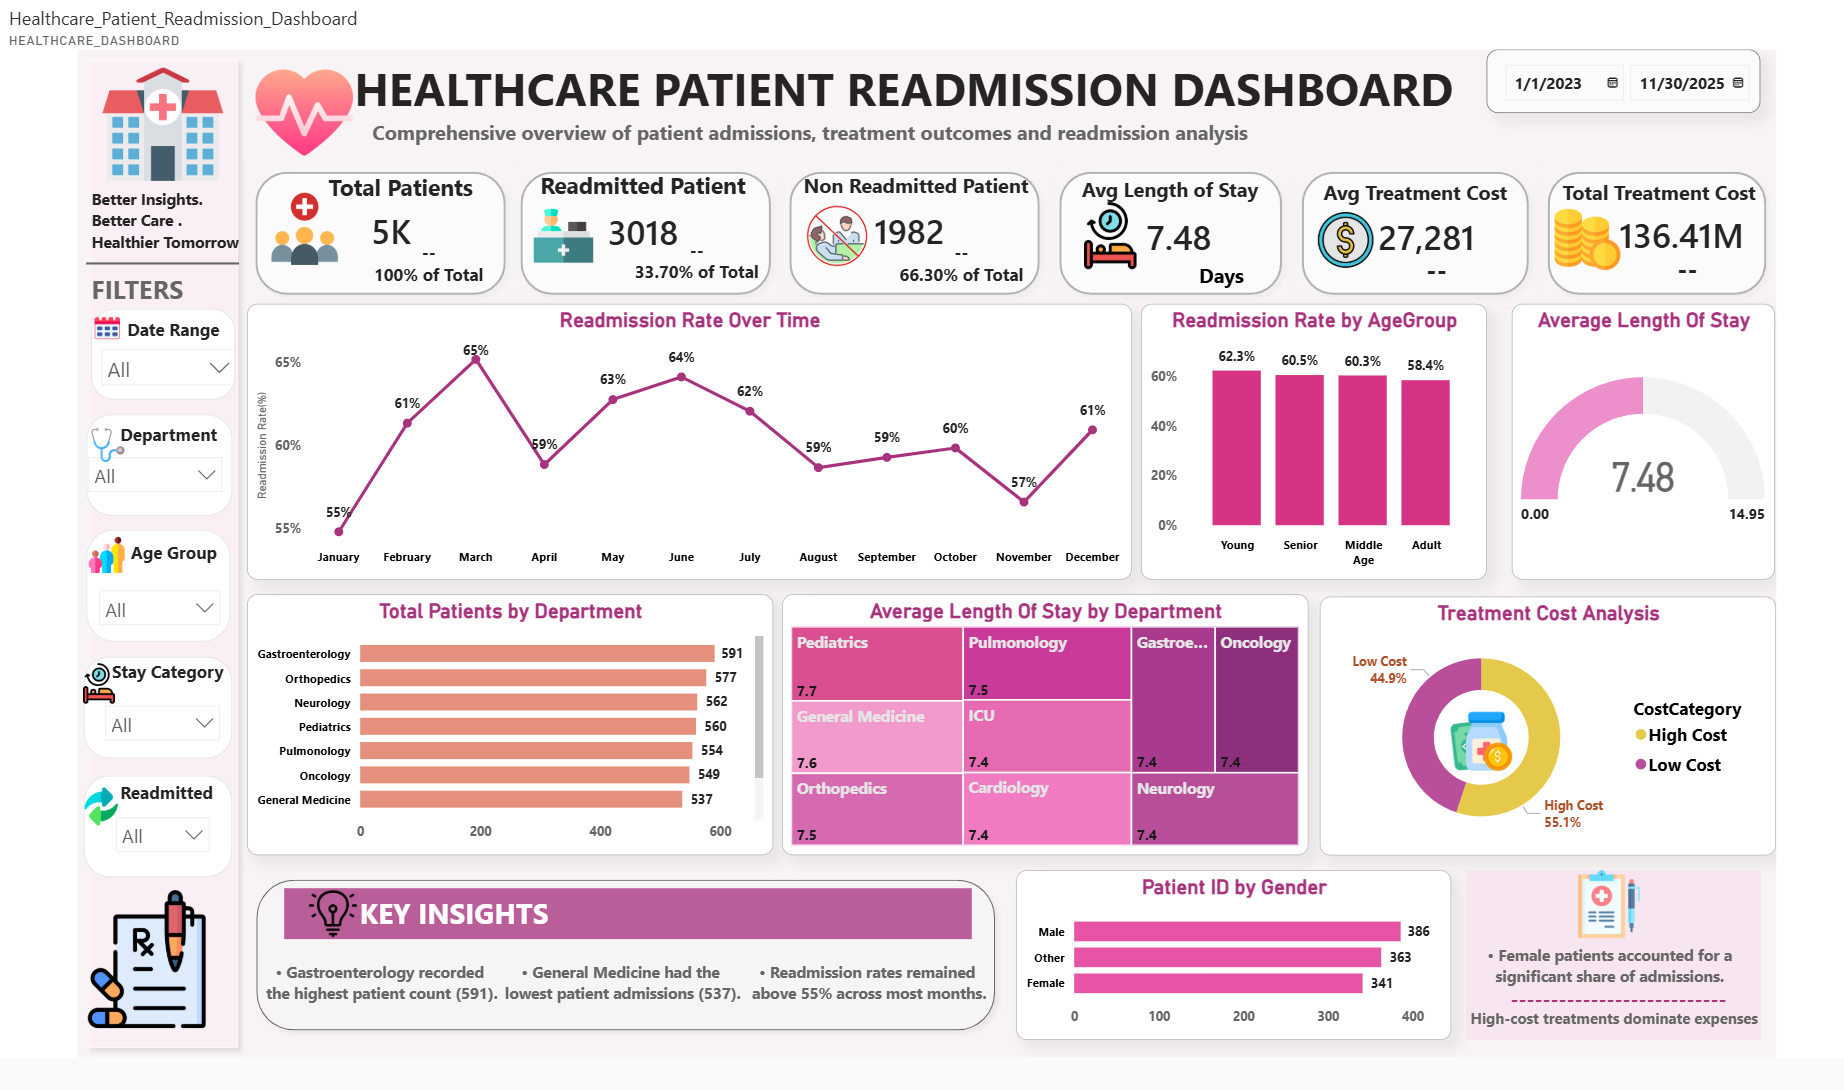

What the dashboard file says about the page in this screenshot:
{"tool":"powerbi","page":{"name":"Healthcare_Dashboard","canvas":[1600,950],"ordinal":0},"visuals":[{"type":"shape","box":[158,106,254,134],"z":0},{"type":"shape","box":[0,0,160,950],"z":1000},{"type":"image","box":[134,14,160,92],"z":2000},{"type":"textbox","box":[228,2,1100,82],"z":3000},{"type":"textbox","box":[272,60,898,46],"z":4000},{"type":"slicer","fields":{"Values":["cleaned_hospital_data.AdmissionDate"]},"box":[1328,0,258,60],"z":5000},{"type":"cardVisual","fields":{"Data":["Key Measures Table.Total Patients"]},"box":[248,128,108,82],"z":6000},{"type":"textbox","box":[200,110,208,50],"z":7000},{"type":"textbox","box":[248,174,166,70],"z":8000},{"type":"image","box":[180,128,68,82],"z":9000},{"type":"shape","box":[408,106,254,134],"z":10000},{"type":"shape","box":[662,106,254,134],"z":11000},{"type":"shape","box":[916,106,228,134],"z":12000},{"type":"shape","box":[1144,106,232,134],"z":13000},{"type":"shape","box":[1376,106,224,134],"z":14000},{"type":"cardVisual","fields":{"Data":["Key Measures Table.Readmitted Patients"]},"box":[470,134,134,74],"z":15000},{"type":"textbox","box":[384,108,296,52],"z":16000},{"type":"textbox","box":[486,172,194,88],"z":17000},{"type":"image","box":[430,140,56,70],"z":18000},{"type":"textbox","box":[648,110,284,54],"z":19000},{"type":"textbox","box":[750,174,166,80],"z":20000},{"type":"cardVisual","fields":{"Data":["Key Measures Table.Non Readmitted Patients"]},"box":[722,128,166,82],"z":21000},{"type":"image","box":[662,116,108,118],"z":22000},{"type":"textbox","box":[900,114,258,48],"z":23000},{"type":"cardVisual","fields":{"Data":["Key Measures Table.Average Length Of Stay"]},"box":[978,136,128,78],"z":24000},{"type":"textbox","box":[1052,194,108,46],"z":25000},{"type":"image","box":[916,142,114,66],"z":26000},{"type":"textbox","box":[1118,116,284,60],"z":27000},{"type":"cardVisual","fields":{"Data":["Key Measures Table.Average Treatment Cost"]},"box":[1196,130,166,88],"z":28000},{"type":"image","box":[1154,152,82,56],"z":29000},{"type":"textbox","box":[1198,186,166,54],"z":30000},{"type":"cardVisual","fields":{"Data":["Key Measures Table.Total Treatment Cost"]},"box":[1424,140,176,64],"z":31000},{"type":"textbox","box":[1434,184,166,50],"z":32000},{"type":"textbox","box":[1376,116,210,48],"z":33000},{"type":"image","box":[1386,148,72,62],"z":34000},{"type":"lineChart","title":"Readmission Rate Over Time","fields":{"Category":["cleaned_hospital_data.Month.Variation.Date Hierarchy.Month"],"Y":["Key Measures Table.Readmission Rate"]},"box":[160,240,834,260],"z":35000},{"type":"clusteredColumnChart","fields":{"Category":["cleaned_hospital_data.AgeGroup"],"Y":["Key Measures Table.Readmission Rate"]},"box":[1002,240,326,260],"z":36000},{"type":"gauge","fields":{"Y":["Key Measures Table.Average Length Of Stay"]},"box":[1352,240,248,260],"z":37000},{"type":"clusteredBarChart","fields":{"Category":["cleaned_hospital_data.Department"],"Y":["Key Measures Table.Total Patients"]},"box":[160,514,496,246],"z":38000},{"type":"treemap","fields":{"Group":["cleaned_hospital_data.Department"],"Values":["Key Measures Table.Average Length Of Stay"]},"box":[664,514,496,246],"z":39000},{"type":"donutChart","title":"Treatment Cost Analysis","fields":{"Y":["CountNonNull(cleaned_hospital_data.PatientID)"],"Category":["cleaned_hospital_data.CostCategory"]},"box":[1170,516,430,244],"z":40000},{"type":"image","box":[1294,620,58,64],"z":41000},{"type":"clusteredBarChart","title":"Patient ID by Gender","fields":{"Category":["cleaned_hospital_data.Gender"],"Y":["CountNonNull(cleaned_hospital_data.PatientID)"]},"box":[884,774,410,160],"z":42000},{"type":"shape","box":[160,774,714,160],"z":43000},{"type":"textbox","box":[194,790,648,48],"z":44000},{"type":"image","box":[176,790,128,48],"z":45000},{"type":"textbox","box":[168,854,236,64],"z":46000},{"type":"textbox","box":[358,854,306,64],"z":47000},{"type":"textbox","box":[604,854,284,80],"z":48000},{"type":"shape","box":[1308,774,278,160],"z":49000},{"type":"image","box":[1398,774,90,64],"z":50000},{"type":"textbox","box":[1294,838,300,74],"z":51000},{"type":"textbox","box":[1296,898,300,36],"z":52000},{"type":"textbox","box":[1300,876,300,44],"z":53000},{"type":"image","box":[16,14,128,114],"z":54000},{"type":"textbox","box":[8,126,300,86],"z":55000},{"type":"shape","box":[8,162,144,80],"z":56000},{"type":"textbox","box":[8,204,110,50],"z":57000},{"type":"shape","box":[12,244,136,86],"z":58000},{"type":"slicer","fields":{"Values":["cleaned_hospital_data.AdmissionDate"]},"box":[12,272,146,58],"z":59000},{"type":"textbox","box":[26,248,128,48],"z":60000},{"type":"image","box":[16,226,24,70],"z":61000},{"type":"shape","box":[8,344,138,96],"z":62000},{"type":"shape","box":[8,452,136,106],"z":63000},{"type":"shape","box":[6,572,140,96],"z":64000},{"type":"shape","box":[6,684,140,96],"z":65000},{"type":"textbox","box":[6,346,160,46],"z":66000},{"type":"slicer","fields":{"Values":["cleaned_hospital_data.Department"]},"box":[0,374,146,50],"z":67000},{"type":"image","box":[12,350,32,46],"z":68000},{"type":"slicer","fields":{"Values":["cleaned_hospital_data.AgeGroup"]},"box":[10,500,134,52],"z":69000},{"type":"textbox","box":[4,458,172,42],"z":70000},{"type":"image","box":[10,450,34,52],"z":70001},{"type":"textbox","box":[8,570,154,50],"z":70002},{"type":"slicer","fields":{"Values":["cleaned_hospital_data.StayCategory"]},"box":[16,608,128,60],"z":70003},{"type":"image","box":[0,558,40,80],"z":70004},{"type":"textbox","box":[6,684,156,48],"z":70005},{"type":"image","box":[0,696,44,36],"z":70006},{"type":"slicer","fields":{"Values":["cleaned_hospital_data.Readmitted"]},"box":[26,714,108,60],"z":70007},{"type":"image","box":[0,780,130,154],"z":70008}]}

Visuals, with their boxes on the page's 1600x950 design canvas (x1, y1, x2, y2). These are canvas units, not pixel positions in the 1844x1090 screenshot, which may show the page scaled, cropped or inside an application window:
shape: (x1=158, y1=106, x2=412, y2=240)
shape: (x1=0, y1=0, x2=160, y2=950)
image: (x1=134, y1=14, x2=294, y2=106)
textbox: (x1=228, y1=2, x2=1328, y2=84)
textbox: (x1=272, y1=60, x2=1170, y2=106)
slicer - cleaned_hospital_data.AdmissionDate: (x1=1328, y1=0, x2=1586, y2=60)
cardVisual - Key Measures Table.Total Patients: (x1=248, y1=128, x2=356, y2=210)
textbox: (x1=200, y1=110, x2=408, y2=160)
textbox: (x1=248, y1=174, x2=414, y2=244)
image: (x1=180, y1=128, x2=248, y2=210)
shape: (x1=408, y1=106, x2=662, y2=240)
shape: (x1=662, y1=106, x2=916, y2=240)
shape: (x1=916, y1=106, x2=1144, y2=240)
shape: (x1=1144, y1=106, x2=1376, y2=240)
shape: (x1=1376, y1=106, x2=1600, y2=240)
cardVisual - Key Measures Table.Readmitted Patients: (x1=470, y1=134, x2=604, y2=208)
textbox: (x1=384, y1=108, x2=680, y2=160)
textbox: (x1=486, y1=172, x2=680, y2=260)
image: (x1=430, y1=140, x2=486, y2=210)
textbox: (x1=648, y1=110, x2=932, y2=164)
textbox: (x1=750, y1=174, x2=916, y2=254)
cardVisual - Key Measures Table.Non Readmitted Patients: (x1=722, y1=128, x2=888, y2=210)
image: (x1=662, y1=116, x2=770, y2=234)
textbox: (x1=900, y1=114, x2=1158, y2=162)
cardVisual - Key Measures Table.Average Length Of Stay: (x1=978, y1=136, x2=1106, y2=214)
textbox: (x1=1052, y1=194, x2=1160, y2=240)
image: (x1=916, y1=142, x2=1030, y2=208)
textbox: (x1=1118, y1=116, x2=1402, y2=176)
cardVisual - Key Measures Table.Average Treatment Cost: (x1=1196, y1=130, x2=1362, y2=218)
image: (x1=1154, y1=152, x2=1236, y2=208)
textbox: (x1=1198, y1=186, x2=1364, y2=240)
cardVisual - Key Measures Table.Total Treatment Cost: (x1=1424, y1=140, x2=1600, y2=204)
textbox: (x1=1434, y1=184, x2=1600, y2=234)
textbox: (x1=1376, y1=116, x2=1586, y2=164)
image: (x1=1386, y1=148, x2=1458, y2=210)
"Readmission Rate Over Time" lineChart: (x1=160, y1=240, x2=994, y2=500)
clusteredColumnChart - cleaned_hospital_data.AgeGroup x Key Measures Table.Readmission Rate: (x1=1002, y1=240, x2=1328, y2=500)
gauge - Key Measures Table.Average Length Of Stay: (x1=1352, y1=240, x2=1600, y2=500)
clusteredBarChart - cleaned_hospital_data.Department x Key Measures Table.Total Patients: (x1=160, y1=514, x2=656, y2=760)
treemap - cleaned_hospital_data.Department x Key Measures Table.Average Length Of Stay: (x1=664, y1=514, x2=1160, y2=760)
"Treatment Cost Analysis" donutChart: (x1=1170, y1=516, x2=1600, y2=760)
image: (x1=1294, y1=620, x2=1352, y2=684)
"Patient ID by Gender" clusteredBarChart: (x1=884, y1=774, x2=1294, y2=934)
shape: (x1=160, y1=774, x2=874, y2=934)
textbox: (x1=194, y1=790, x2=842, y2=838)
image: (x1=176, y1=790, x2=304, y2=838)
textbox: (x1=168, y1=854, x2=404, y2=918)
textbox: (x1=358, y1=854, x2=664, y2=918)
textbox: (x1=604, y1=854, x2=888, y2=934)
shape: (x1=1308, y1=774, x2=1586, y2=934)
image: (x1=1398, y1=774, x2=1488, y2=838)
textbox: (x1=1294, y1=838, x2=1594, y2=912)
textbox: (x1=1296, y1=898, x2=1596, y2=934)
textbox: (x1=1300, y1=876, x2=1600, y2=920)
image: (x1=16, y1=14, x2=144, y2=128)
textbox: (x1=8, y1=126, x2=308, y2=212)
shape: (x1=8, y1=162, x2=152, y2=242)
textbox: (x1=8, y1=204, x2=118, y2=254)
shape: (x1=12, y1=244, x2=148, y2=330)
slicer - cleaned_hospital_data.AdmissionDate: (x1=12, y1=272, x2=158, y2=330)
textbox: (x1=26, y1=248, x2=154, y2=296)
image: (x1=16, y1=226, x2=40, y2=296)
shape: (x1=8, y1=344, x2=146, y2=440)
shape: (x1=8, y1=452, x2=144, y2=558)
shape: (x1=6, y1=572, x2=146, y2=668)
shape: (x1=6, y1=684, x2=146, y2=780)
textbox: (x1=6, y1=346, x2=166, y2=392)
slicer - cleaned_hospital_data.Department: (x1=0, y1=374, x2=146, y2=424)
image: (x1=12, y1=350, x2=44, y2=396)
slicer - cleaned_hospital_data.AgeGroup: (x1=10, y1=500, x2=144, y2=552)
textbox: (x1=4, y1=458, x2=176, y2=500)
image: (x1=10, y1=450, x2=44, y2=502)
textbox: (x1=8, y1=570, x2=162, y2=620)
slicer - cleaned_hospital_data.StayCategory: (x1=16, y1=608, x2=144, y2=668)
image: (x1=0, y1=558, x2=40, y2=638)
textbox: (x1=6, y1=684, x2=162, y2=732)
image: (x1=0, y1=696, x2=44, y2=732)
slicer - cleaned_hospital_data.Readmitted: (x1=26, y1=714, x2=134, y2=774)
image: (x1=0, y1=780, x2=130, y2=934)
